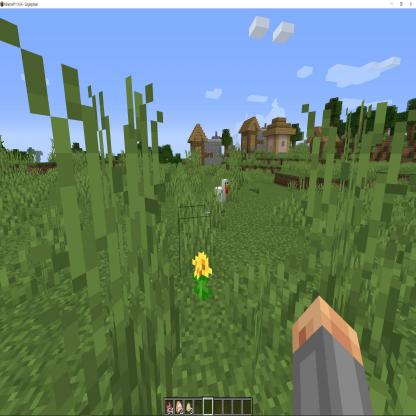minecraft-pigs: (213, 180, 230, 211)
